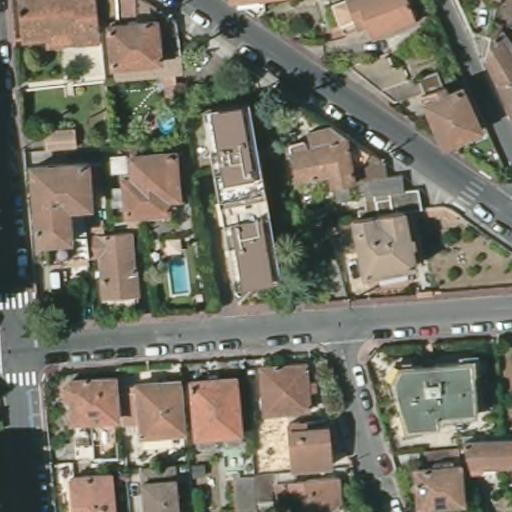pool: (161, 247, 193, 300), (151, 109, 178, 137)
